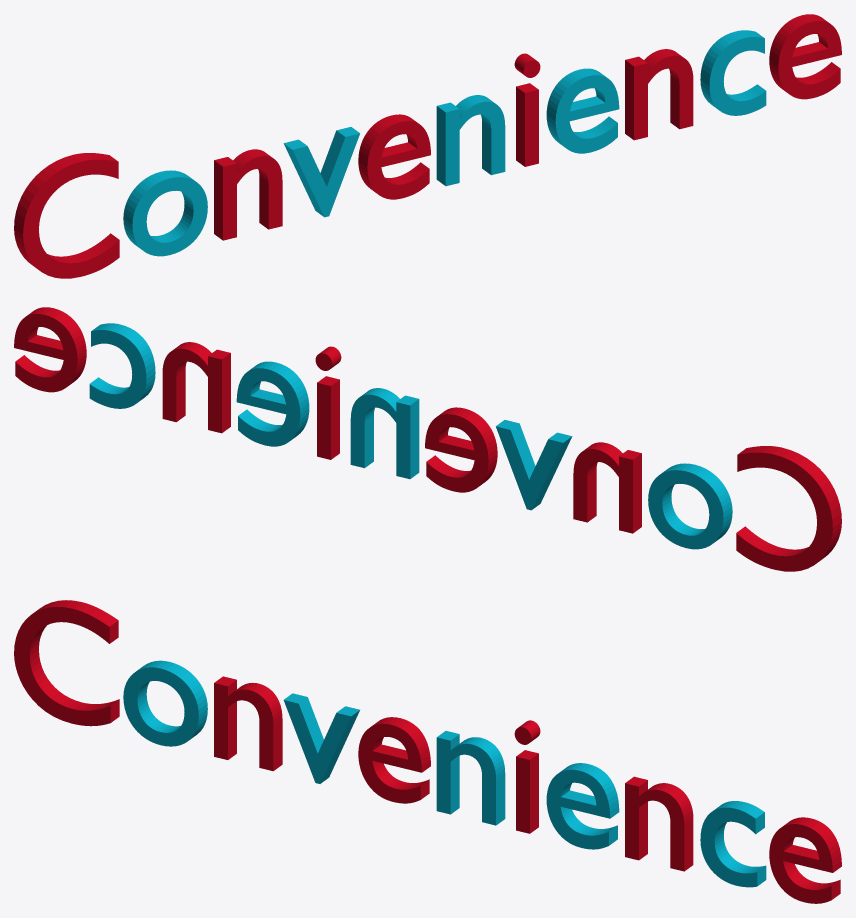
File: Convenience Sign.fbx
3 views of the same model, one above another, from view 1: azimuth 30°, elevation 25°; view 2: azimuth 150°, elevation 25°; view 3: azimuth 330°, elevation 25° (orthographic).
Parts seen in each view (by area): view 1: Convenience Sign; view 2: Convenience Sign; view 3: Convenience Sign.
Part boxes in pixels (x1,y1,x2,y2): Convenience Sign: (14,14,841,278); Convenience Sign: (14,307,841,571); Convenience Sign: (14,600,841,903).
Size of the model in its own units: 1417 by 190 by 27.2.
